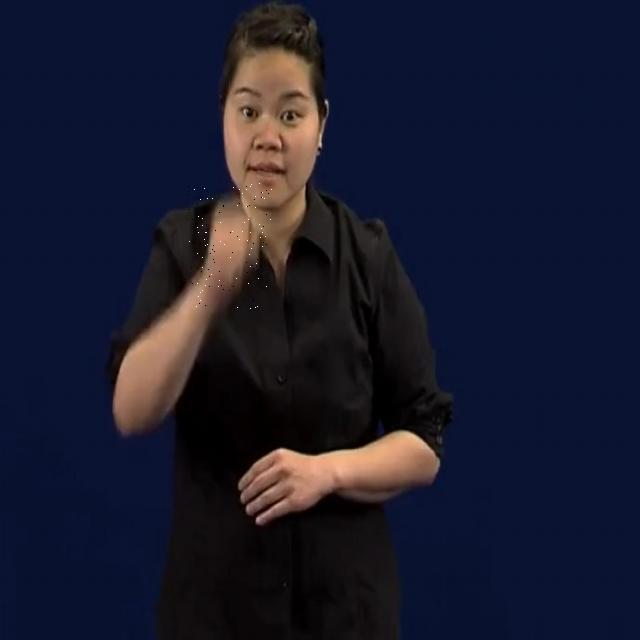icecream: (188, 183, 272, 309)
